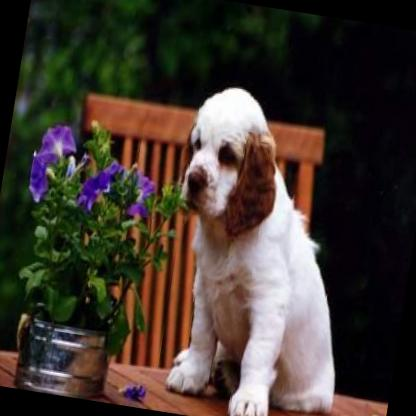clumber: (136, 76, 380, 416)
